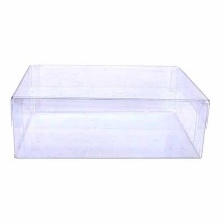plastic_box: (4, 54, 216, 166)
